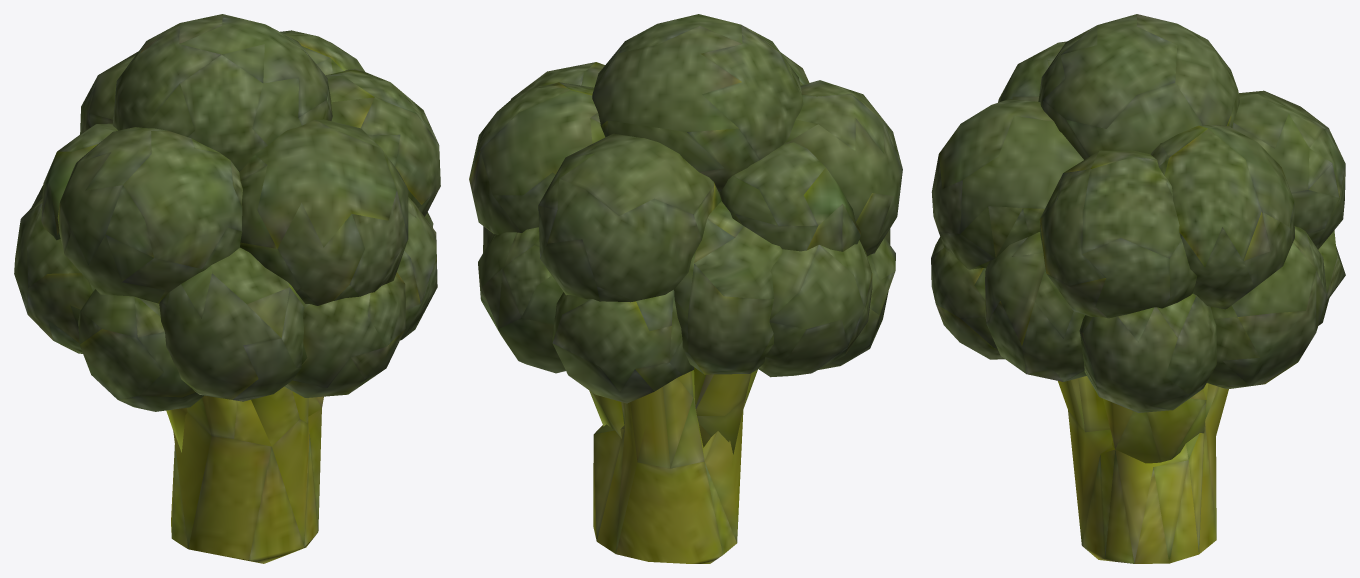
Rendered from broccoli.glb.
3 renders of one model, left to right at view 1: azimuth 30°, elevation 25°; view 2: azimuth 150°, elevation 25°; view 3: azimuth 270°, elevation 25°, orthographic. The views are drawn at different scales.
Parts seen in each view (by area): view 1: geometry_0; view 2: geometry_0; view 3: geometry_0.
Boxes of the visible parts, x1,y1,x2,y2 form: geometry_0: (14, 14, 440, 563); geometry_0: (469, 14, 902, 563); geometry_0: (931, 14, 1345, 563).
Size of the model in its own units: 0.7573 by 1 by 0.7386.
Materials: 1 (1 with a texture image).
